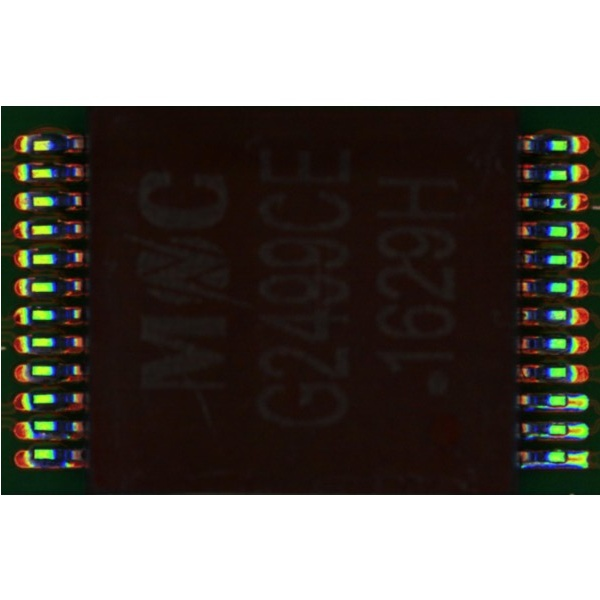Bad_podu: (560, 399, 575, 407), (560, 428, 575, 436), (560, 456, 575, 464)
Bad_qiaojiao: (524, 435, 565, 440), (522, 462, 563, 467), (530, 405, 564, 410)
